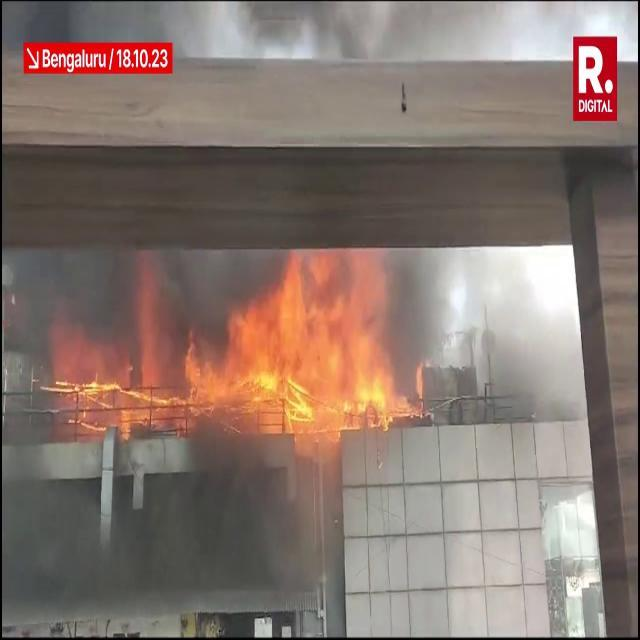Fire: (51, 250, 420, 440)
Smoke: (400, 242, 586, 420)
